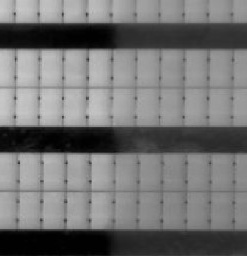solar: (10, 47, 40, 88), (36, 48, 66, 89), (59, 48, 89, 89), (84, 48, 114, 89), (108, 48, 138, 89), (132, 48, 162, 89), (157, 48, 187, 89), (181, 48, 211, 89), (206, 48, 236, 89), (11, 85, 41, 126), (35, 86, 65, 127), (61, 86, 91, 127), (84, 86, 114, 127), (108, 86, 138, 127), (132, 87, 162, 128), (157, 87, 187, 128), (181, 87, 211, 128), (205, 87, 235, 128), (14, 151, 44, 192), (38, 151, 68, 192), (62, 151, 92, 192), (87, 151, 117, 192), (110, 151, 140, 192), (134, 152, 164, 193), (160, 152, 190, 193), (183, 152, 213, 193), (208, 152, 238, 193), (207, 189, 237, 230), (182, 190, 212, 231), (158, 190, 188, 231), (135, 190, 165, 231), (111, 190, 141, 231), (87, 190, 117, 231), (63, 190, 93, 231), (39, 190, 69, 231), (15, 190, 45, 231)
